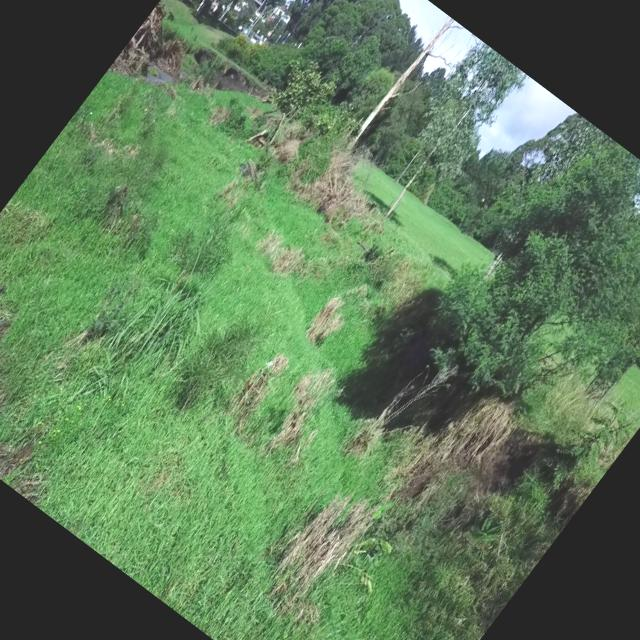Mysore-Thorn-Weed: (508, 373, 640, 527), (462, 507, 509, 555)
